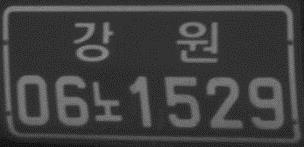0: (16, 73, 50, 126)
1: (128, 74, 154, 129)
2: (204, 74, 244, 132)
5: (162, 74, 201, 130)
6: (54, 73, 90, 128)
9: (247, 74, 285, 131)
강원_D: (72, 20, 220, 64)
노: (91, 78, 123, 123)
